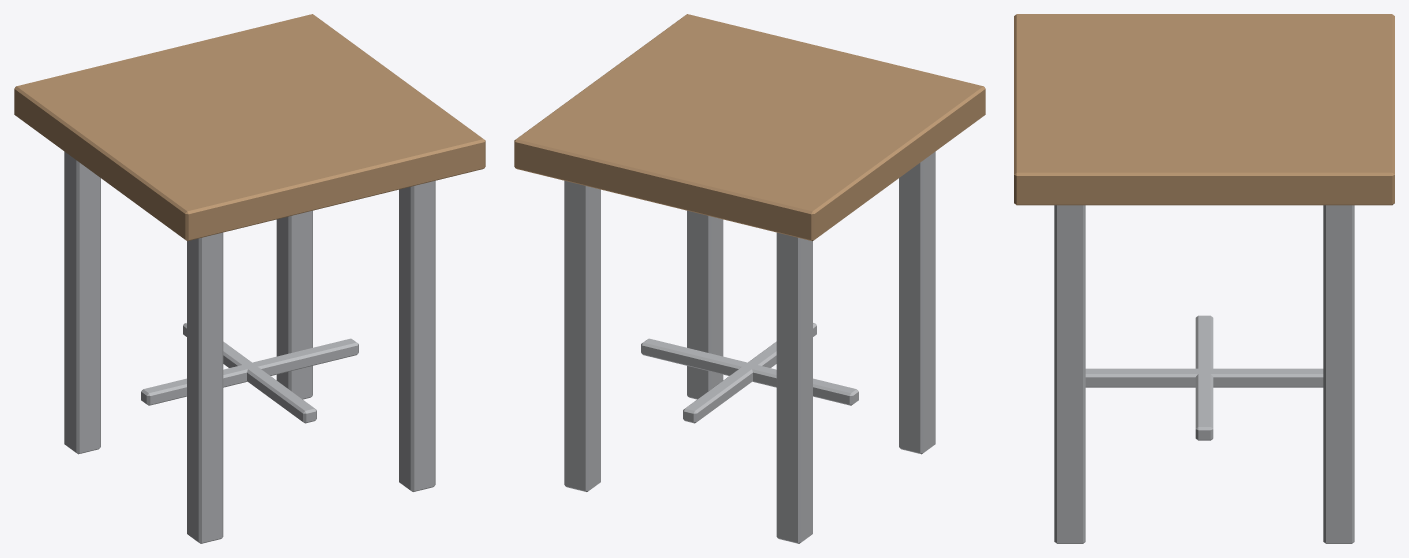
Rendered from prop_stool_01.glb.
3 views of the same model, side by side, from view 1: azimuth 30°, elevation 25°; view 2: azimuth 150°, elevation 25°; view 3: azimuth 270°, elevation 25° (orthographic). The views are drawn at different scales.
Parts seen in each view (by area): view 1: prop_stool_01; view 2: prop_stool_01; view 3: prop_stool_01.
Part boxes in pixels (x1,y1,x2,y2): prop_stool_01: (14,14,485,543); prop_stool_01: (514,14,985,543); prop_stool_01: (1014,14,1394,543).
Size of the model in its own units: 0.4 by 0.45 by 0.4.
